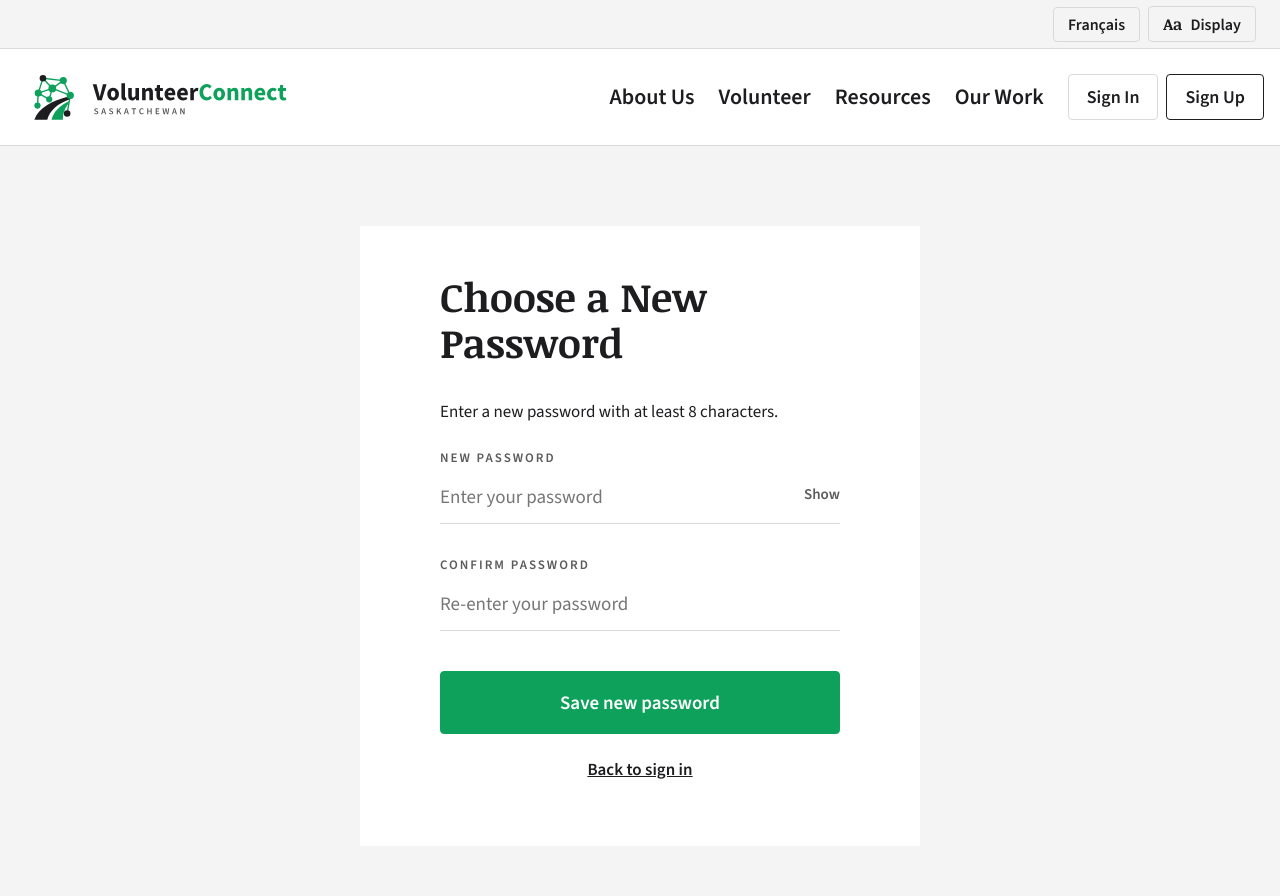
Test: explains an expired or used link
Type "NewPass123" into the password field labelled "New Password" at (640, 497), box x1=440 y1=470 x2=840 y2=524
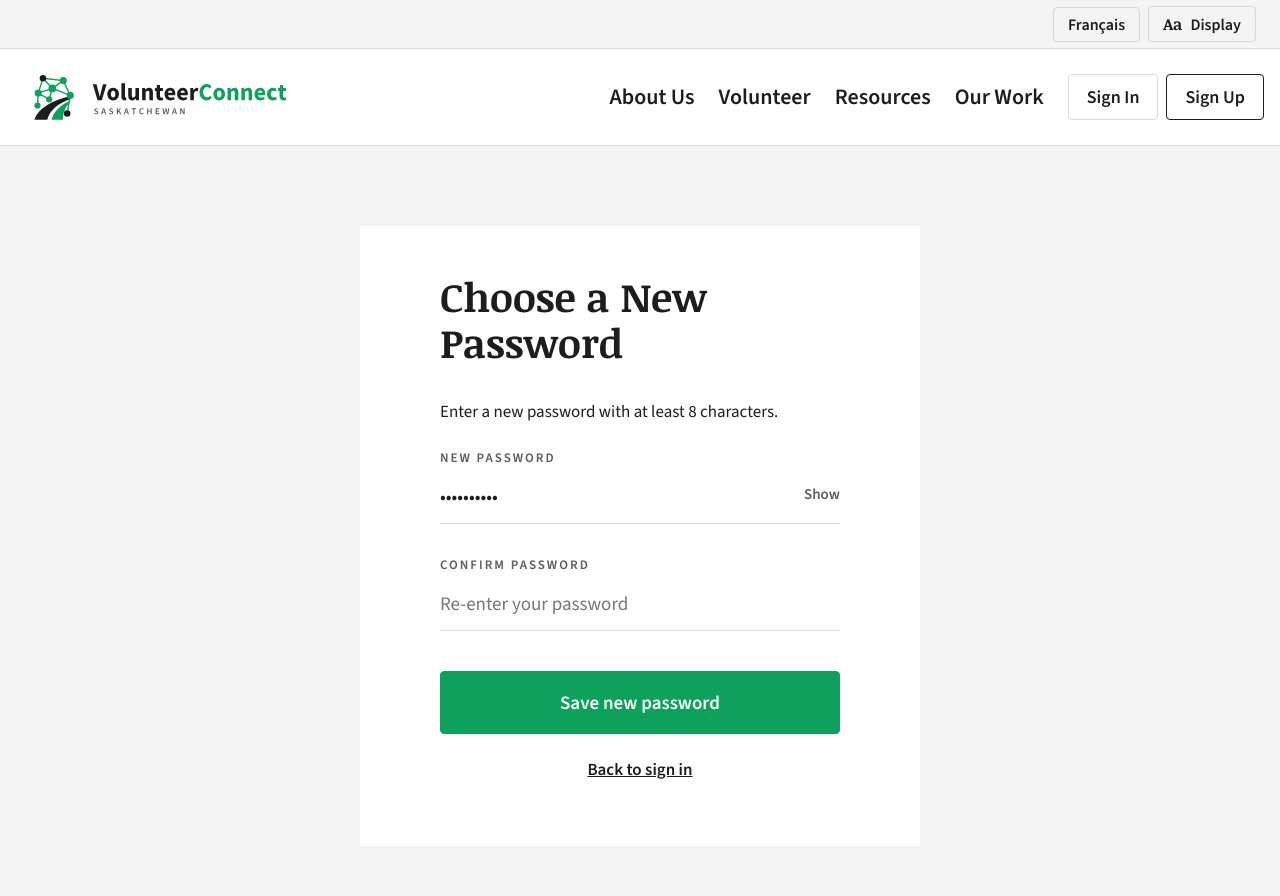
Type "NewPass123" into the password field labelled "Confirm Password" at (640, 604), box x1=440 y1=577 x2=840 y2=631
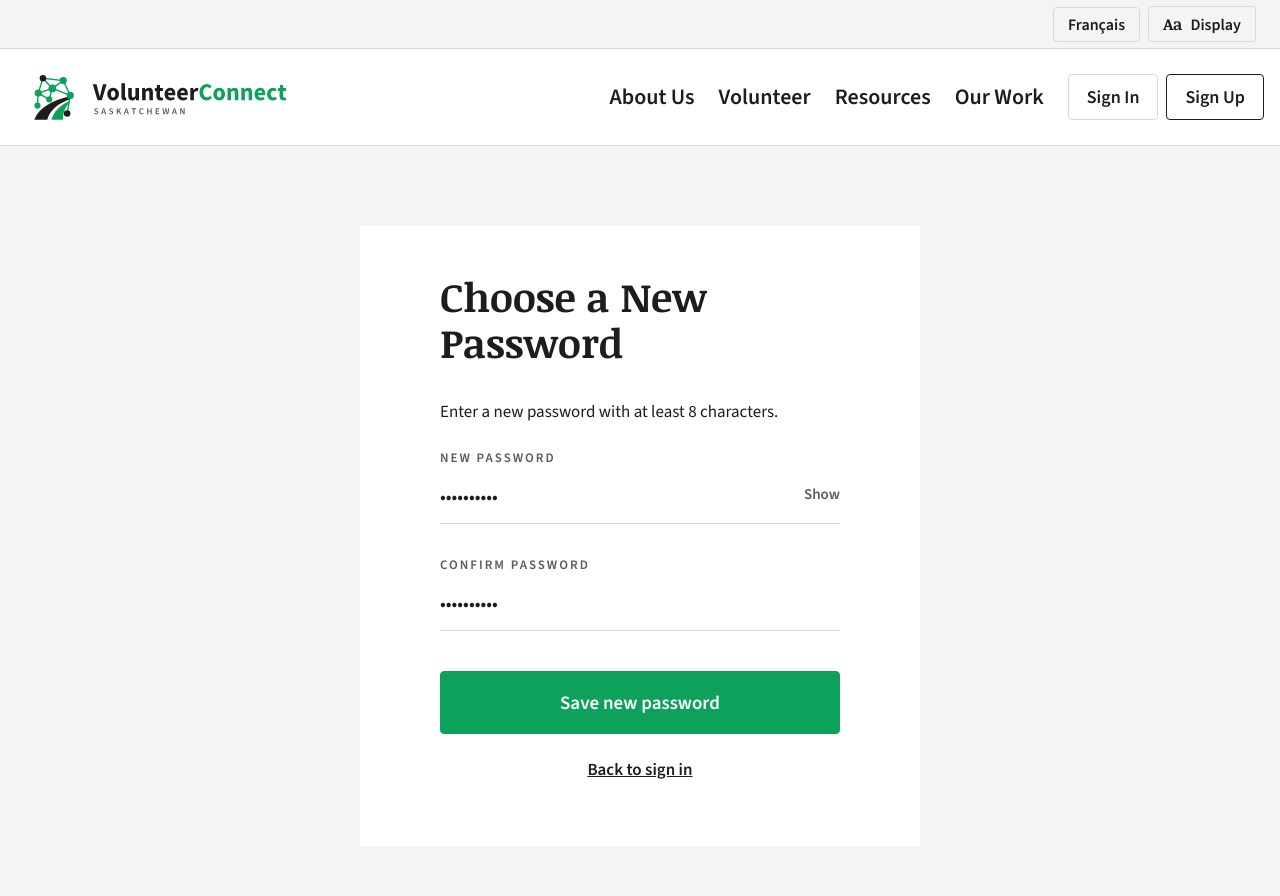
Click the button "Save new password" at (640, 703), box x1=440 y1=671 x2=840 y2=734
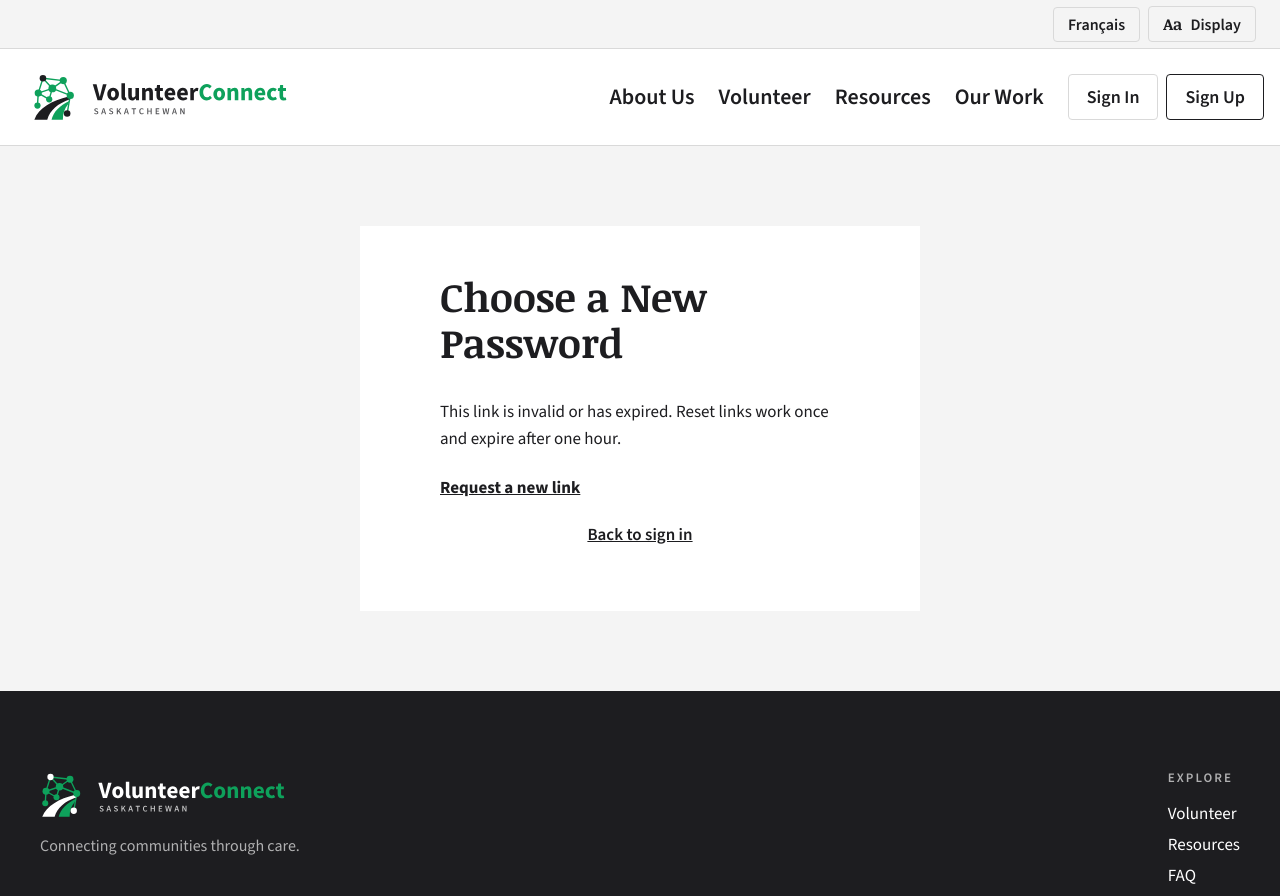
Now the text "This link is invalid or has expired" is shown, box x1=440 y1=400 x2=829 y2=450
